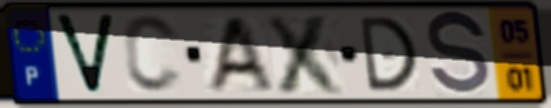A: (202, 13, 277, 96)
C: (120, 12, 187, 97)
D: (356, 13, 421, 95)
S: (424, 8, 494, 100)
V: (49, 11, 119, 98)
X: (261, 12, 350, 98)
